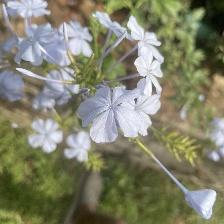chitrak: (77, 86, 146, 148), (29, 117, 66, 156), (58, 18, 94, 58), (136, 47, 164, 95), (185, 184, 218, 222), (65, 131, 93, 163)
